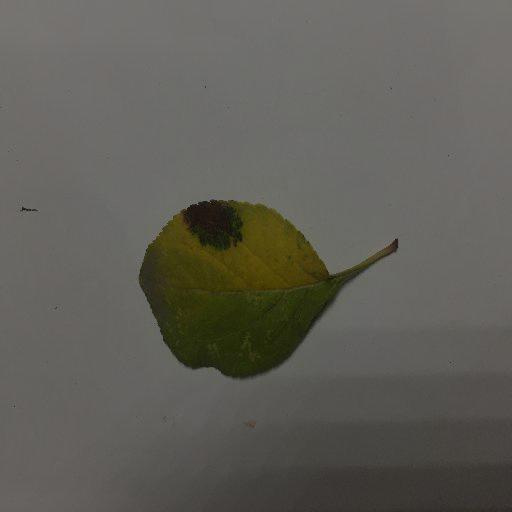Brown_Spot: (184, 203, 250, 246)
